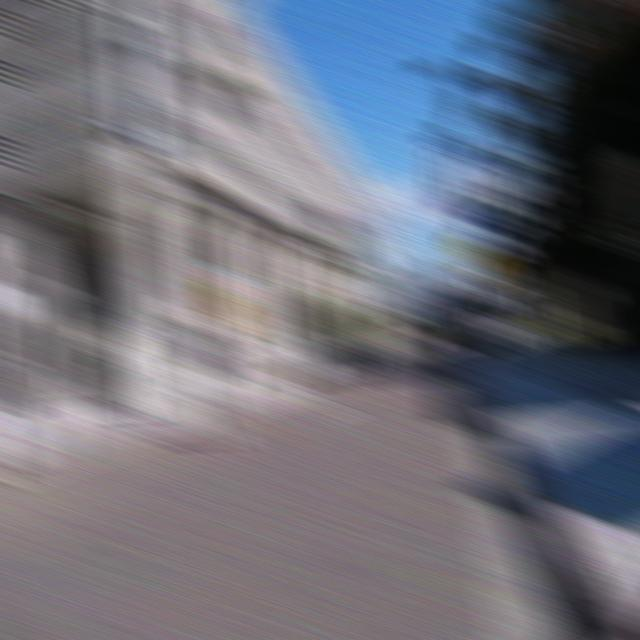pedestrianCrossing: (458, 235, 504, 278), (204, 282, 246, 318)
